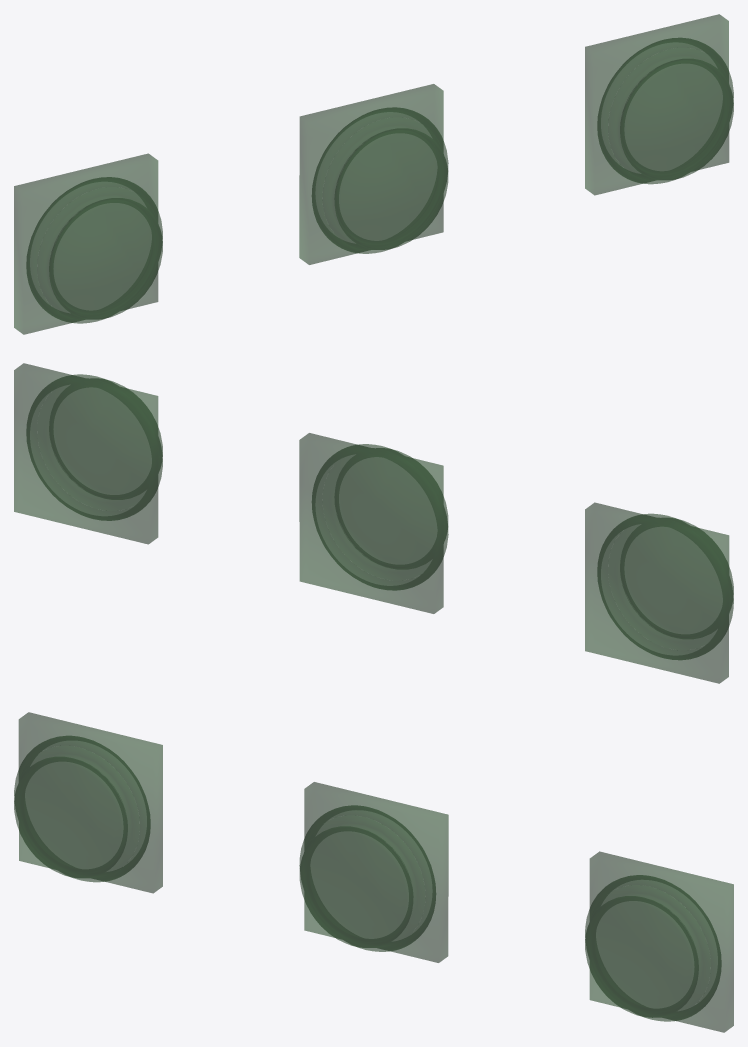
File: USV109.obj
3 renders of one model, top to bottom at view 1: azimuth 30°, elevation 25°; view 2: azimuth 150°, elevation 25°; view 3: azimuth 330°, elevation 25°, orthographic.
Visible parts, largest first — view 1: USV109; view 2: USV109; view 3: USV109.
Boxes of the visible parts, x1,y1,x2,y2 form: USV109: (14, 14, 733, 334); USV109: (14, 363, 733, 683); USV109: (14, 712, 733, 1032).
Bounding box in the file's own units: 5.27 × 1.01 × 0.3568.
